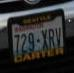2: (21, 33, 27, 53)
7: (14, 34, 20, 54)
9: (28, 32, 35, 51)
R: (49, 29, 55, 47)
V: (55, 27, 61, 47)
X: (41, 29, 48, 50)
